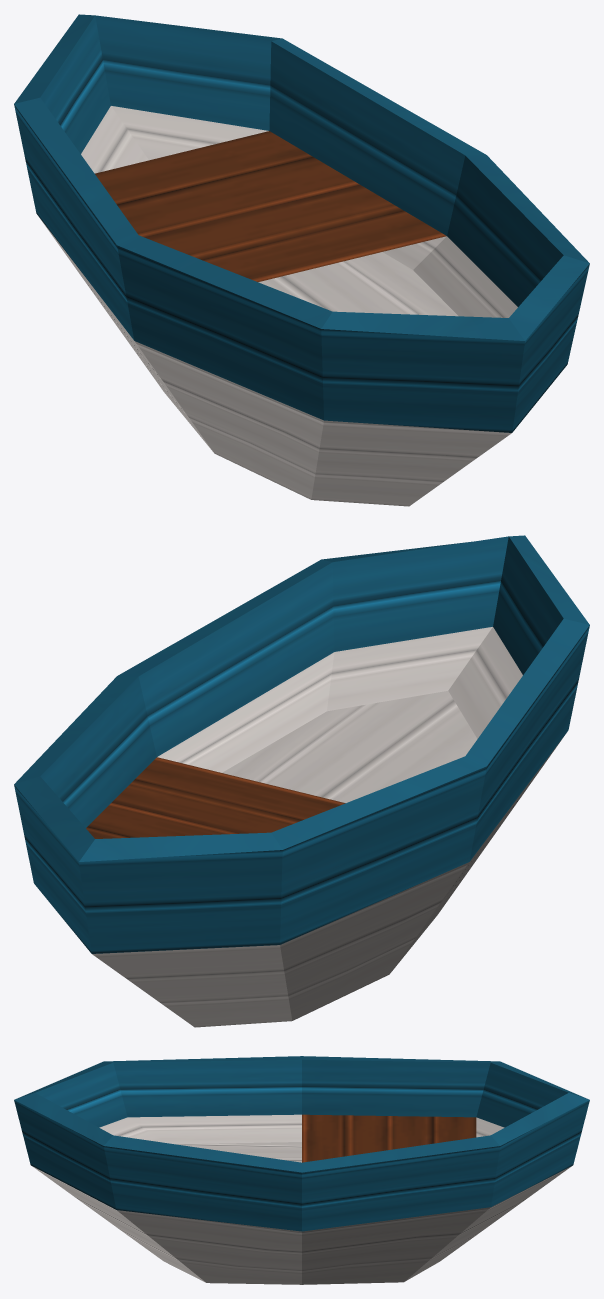
The model's file is co_Boat03.fbx.
The picture shows the model from 3 angles, top to bottom: view 1: azimuth 30°, elevation 25°; view 2: azimuth 150°, elevation 25°; view 3: azimuth 270°, elevation 25°; orthographic projection. The views are drawn at different scales.
Visible parts, largest first — view 1: Boat03; view 2: Boat03; view 3: Boat03.
Part boxes in pixels (<box>): Boat03: <box>14,14,589,506</box>; Boat03: <box>14,535,589,1027</box>; Boat03: <box>14,1056,589,1284</box>.
Bounding box in the file's own units: 751 × 515 × 1569.
